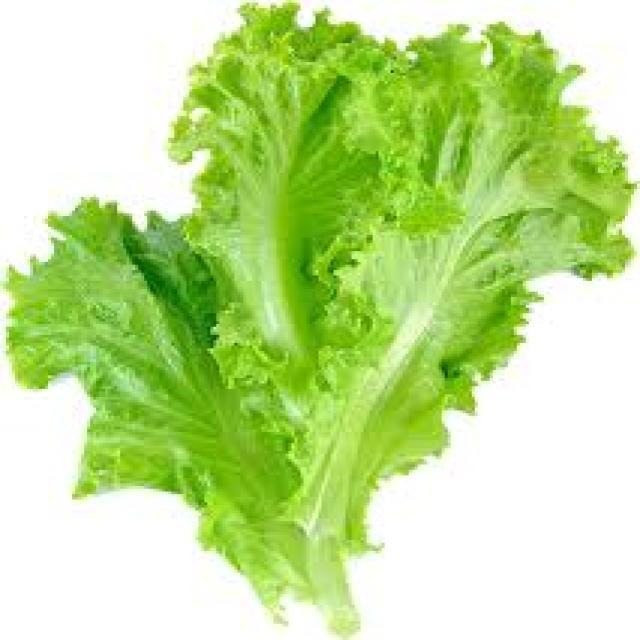Lettuce-Ready-to-Harvest: (9, 5, 631, 627)
